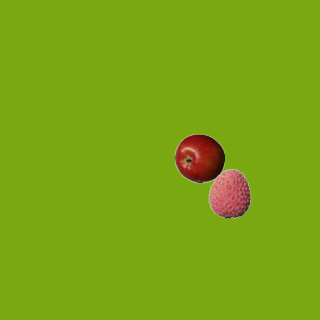Apple Braeburn: (174, 133, 224, 183)
Lychee: (204, 168, 254, 218)
